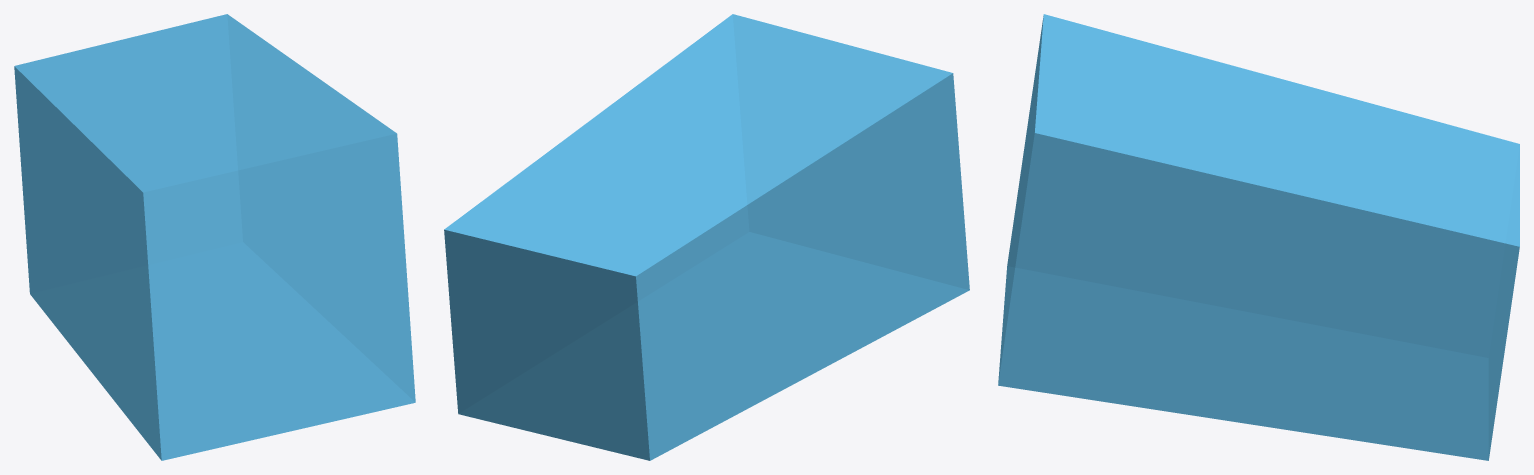
The model's file is Event_420107950_HBrechit_2.fbx.
3 renders of one model, left to right at view 1: azimuth 30°, elevation 25°; view 2: azimuth 150°, elevation 25°; view 3: azimuth 270°, elevation 25°, orthographic. The views are drawn at different scales.
Visible parts, largest first — view 1: Model; view 2: Model; view 3: Model.
Boxes of the visible parts, left/top/right/bottom form: Model: left=14, top=14, right=415, bottom=460; Model: left=444, top=14, right=969, bottom=460; Model: left=998, top=14, right=1519, bottom=460.
Size of the model in its own units: 0.6254 by 0.5424 by 0.8796.
